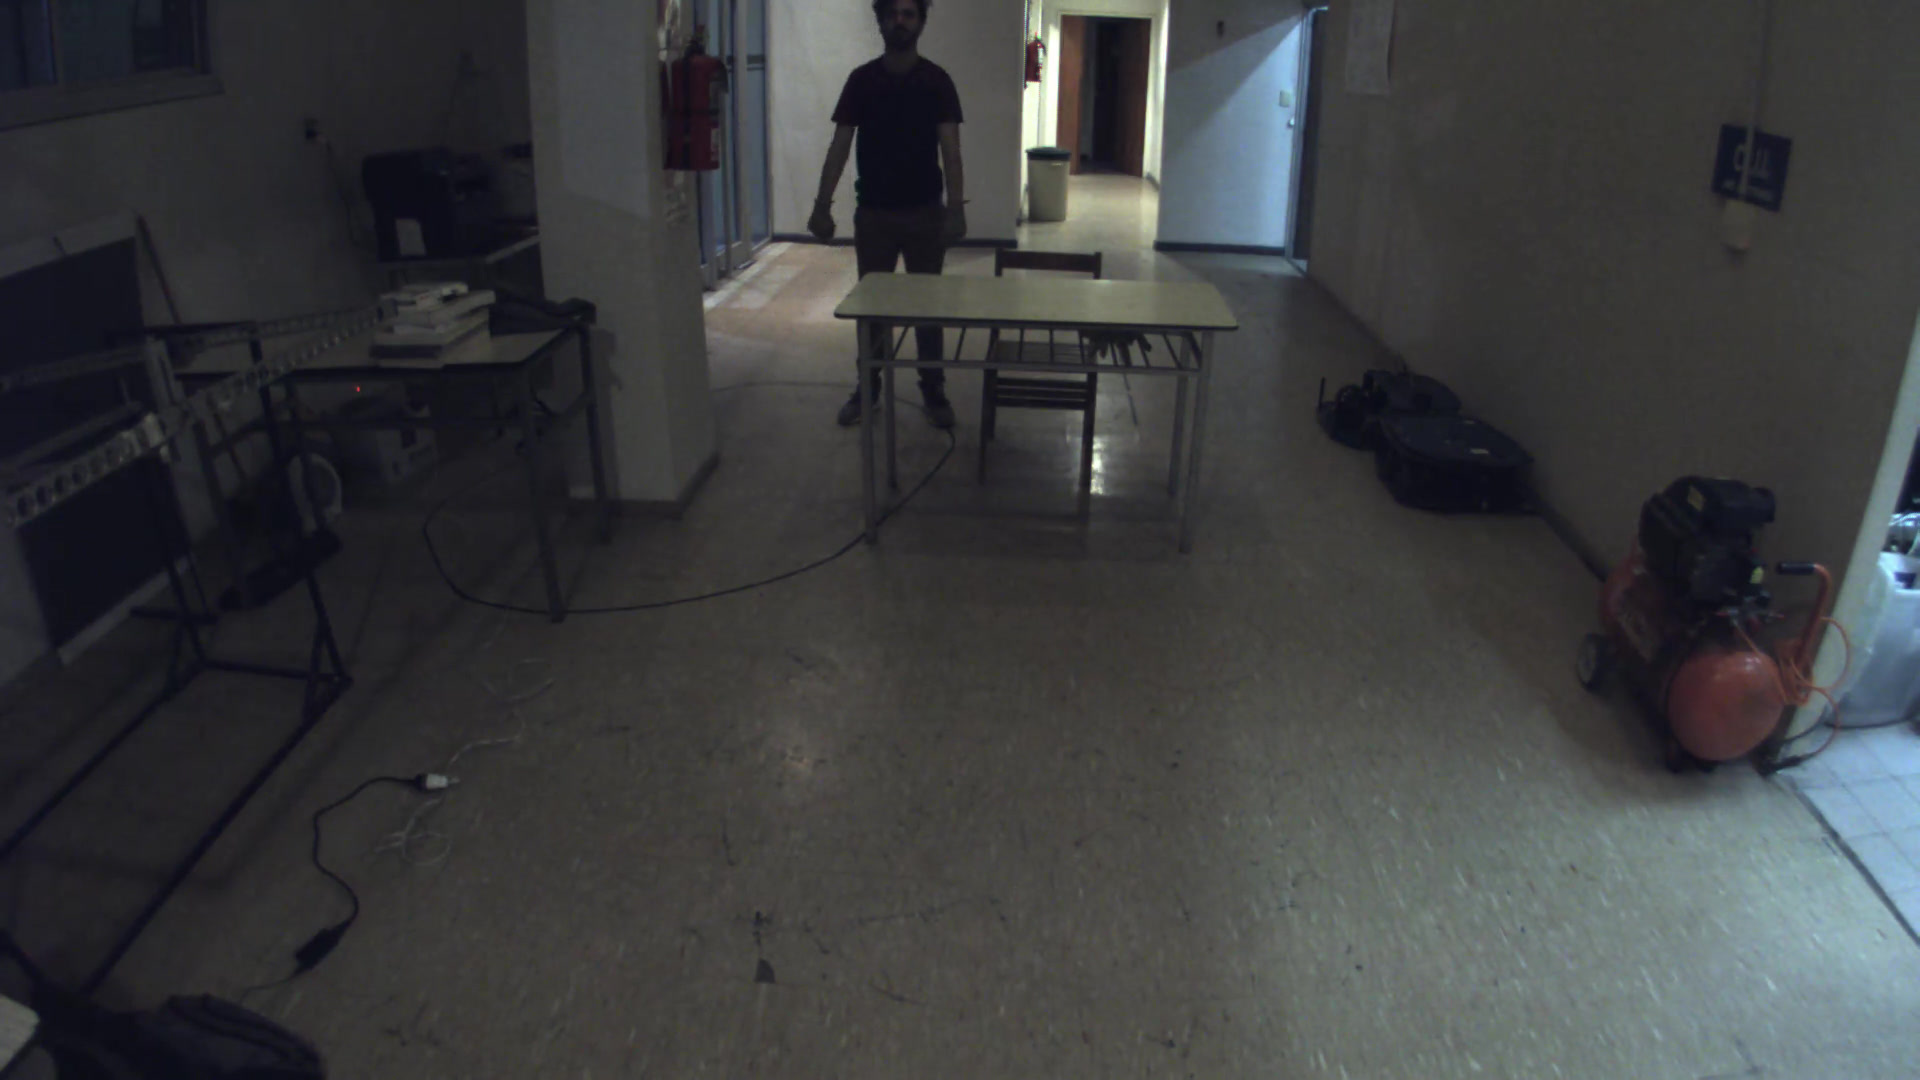hand: (934, 190, 989, 245), (798, 190, 843, 236)
